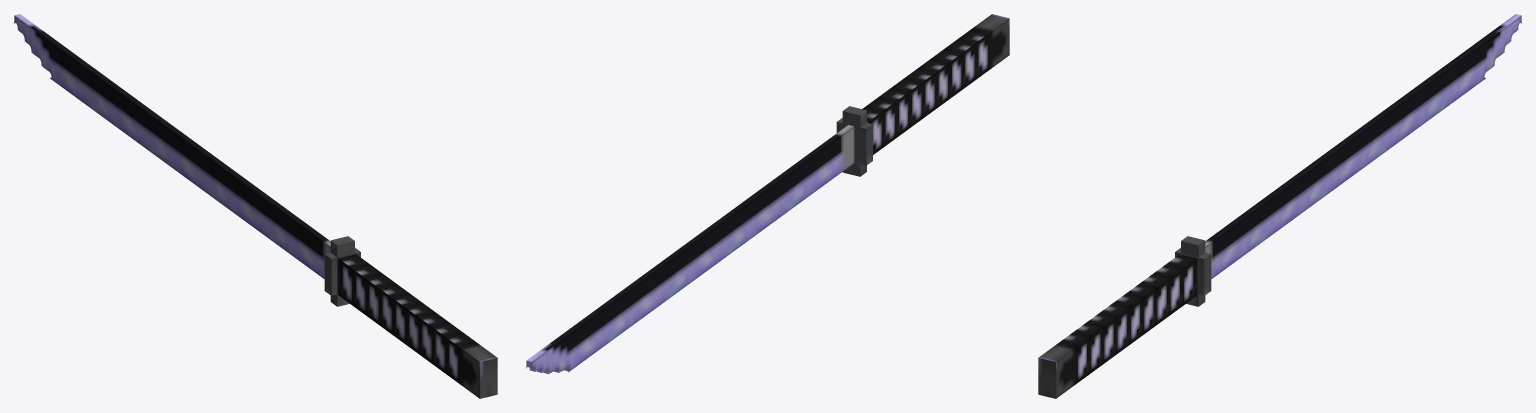
Rendered from psi_katana.obj.
3 views of the same model, side by side, from view 1: azimuth 30°, elevation 25°; view 2: azimuth 150°, elevation 25°; view 3: azimuth 330°, elevation 25° (orthographic).
Parts seen in each view (by area): view 1: katana; view 2: katana; view 3: katana.
Part boxes in pixels (left/top/right/bottom): katana: left=14, top=14, right=497, bottom=398; katana: left=526, top=14, right=1009, bottom=373; katana: left=1038, top=14, right=1521, bottom=398.
Size of the model in its own units: 0.0977 by 0.1953 by 2.71.
